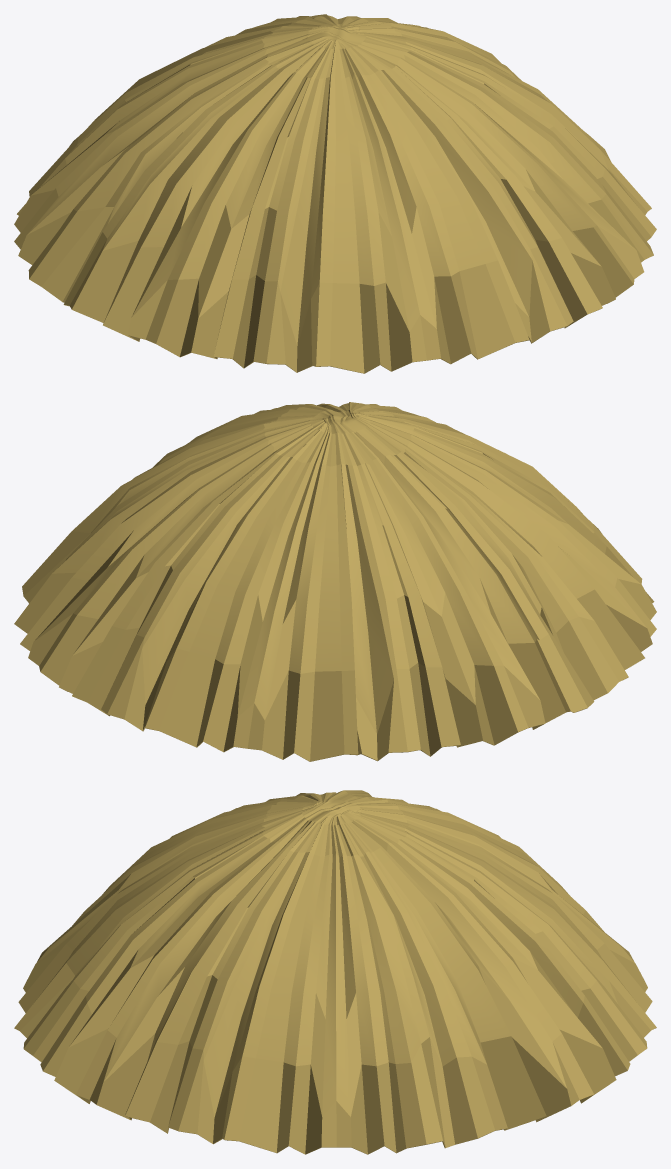
The model's file is SM_Env_Roof_09.fbx.
3 renders of one model, top to bottom at view 1: azimuth 30°, elevation 25°; view 2: azimuth 150°, elevation 25°; view 3: azimuth 270°, elevation 25°, orthographic.
Parts seen in each view (by area): view 1: SM_Env_Roof_09; view 2: SM_Env_Roof_09; view 3: SM_Env_Roof_09.
Part boxes in pixels (x1=…): SM_Env_Roof_09: x1=14, y1=14, x2=656, y2=373; SM_Env_Roof_09: x1=14, y1=402, x2=656, y2=761; SM_Env_Roof_09: x1=14, y1=790, x2=656, y2=1154.
Bounding box in the file's own units: 195 × 75.59 × 195.
Materials: 1 (1 with a texture image).
